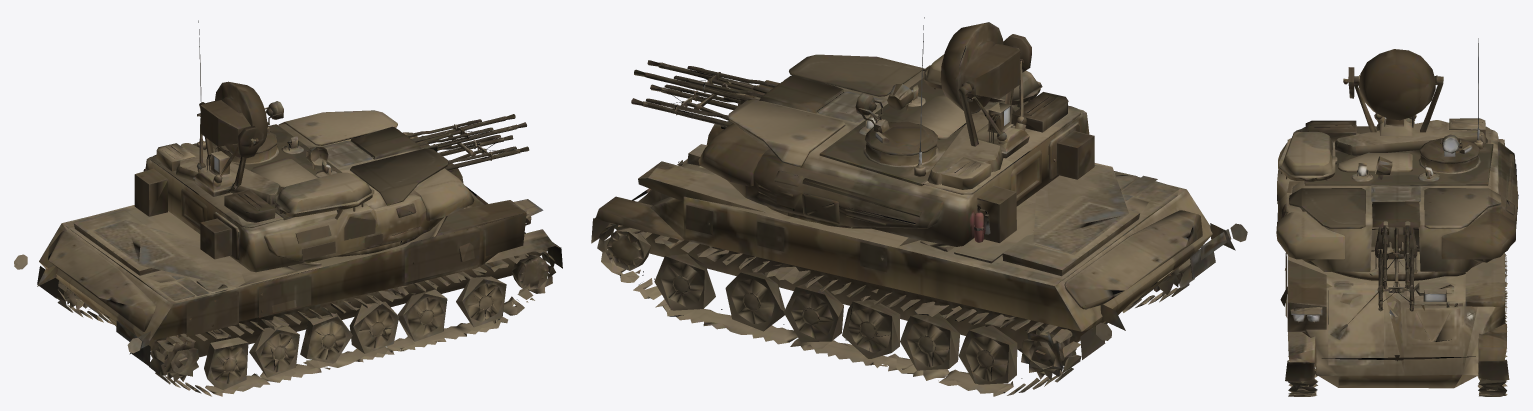
File: fh_battle_e_zsu.glb
3 renders of one model, left to right at view 1: azimuth 30°, elevation 25°; view 2: azimuth 150°, elevation 25°; view 3: azimuth 270°, elevation 25°, orthographic. The views are drawn at different scales.
Parts seen in each view (by area): view 1: ground_zsu, turret; view 2: ground_zsu, turret; view 3: turret, ground_zsu.
Part boxes in pixels (<box>): ground_zsu: <box>14,132,562,396</box>; turret: <box>134,20,529,272</box>; ground_zsu: <box>591,80,1247,396</box>; turret: <box>631,17,1094,246</box>; turret: <box>1276,38,1518,311</box>; ground_zsu: <box>1280,139,1509,396</box>.
Size of the model in its own units: 1 by 0.6231 by 0.4768.
1 material, 1 textured.
